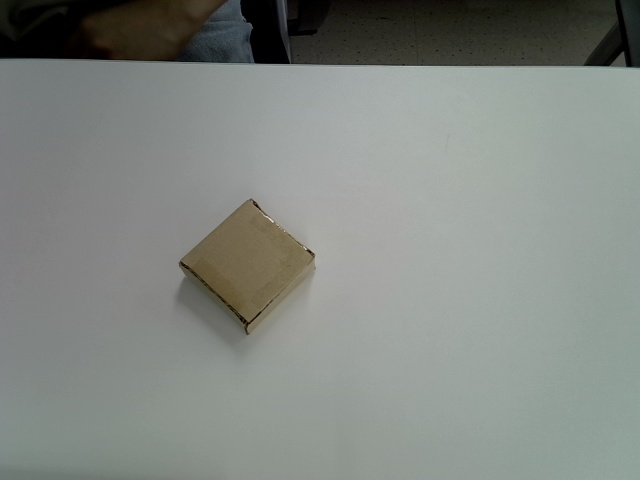normal: (179, 198, 319, 335)
